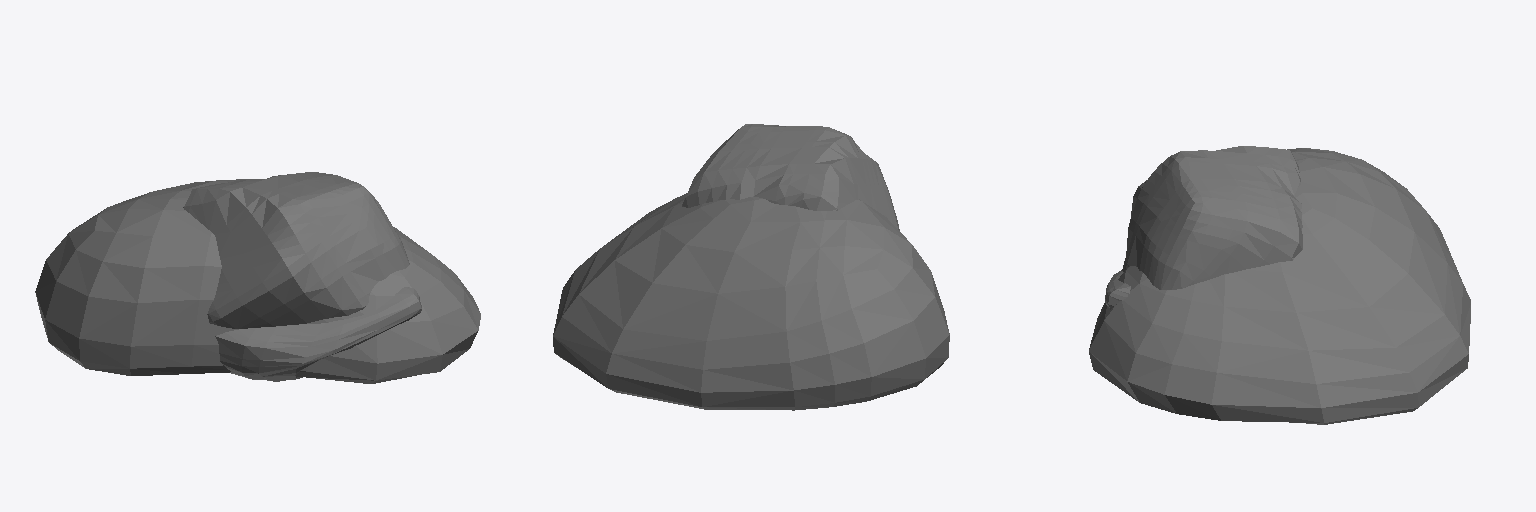
File: rocks.obj
The picture shows the model from 3 angles: view 1: azimuth 30°, elevation 25°; view 2: azimuth 150°, elevation 25°; view 3: azimuth 270°, elevation 25°; orthographic projection.
Visible parts, largest first — view 1: large_rock_Mesh.009, small_rock_Mesh.007, medium_rock_Mesh.008; view 2: large_rock_Mesh.009, small_rock_Mesh.007; view 3: large_rock_Mesh.009, small_rock_Mesh.007, medium_rock_Mesh.008.
Part boxes in pixels (x1,y1,x2,y2): large_rock_Mesh.009: (35,179,480,383); small_rock_Mesh.007: (183,172,409,328); medium_rock_Mesh.008: (215,287,421,381); large_rock_Mesh.009: (553,193,949,410); small_rock_Mesh.007: (682,124,899,230); large_rock_Mesh.009: (1089,148,1470,424); small_rock_Mesh.007: (1122,146,1302,289); medium_rock_Mesh.008: (1105,270,1130,309).
Size of the model in its own units: 0.4745 by 0.2303 by 0.4264.